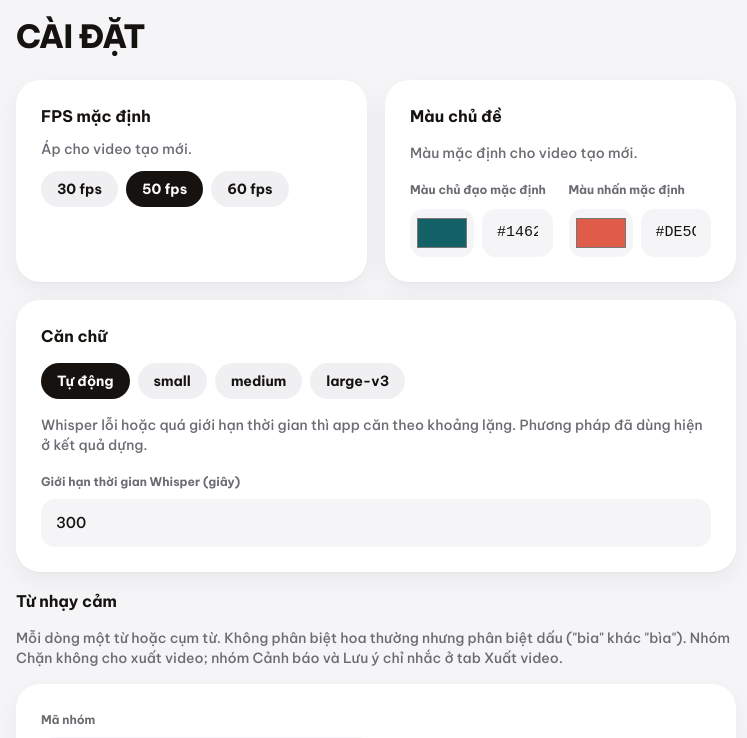
Test case: Cài đặt: các thẻ › warns that medium / large-v3 are slow without a GPU
This screenshot has width=747, height=738.
Click the button "large-v3" at (358, 381), box top-left (310, 363), bottom-right (405, 399)
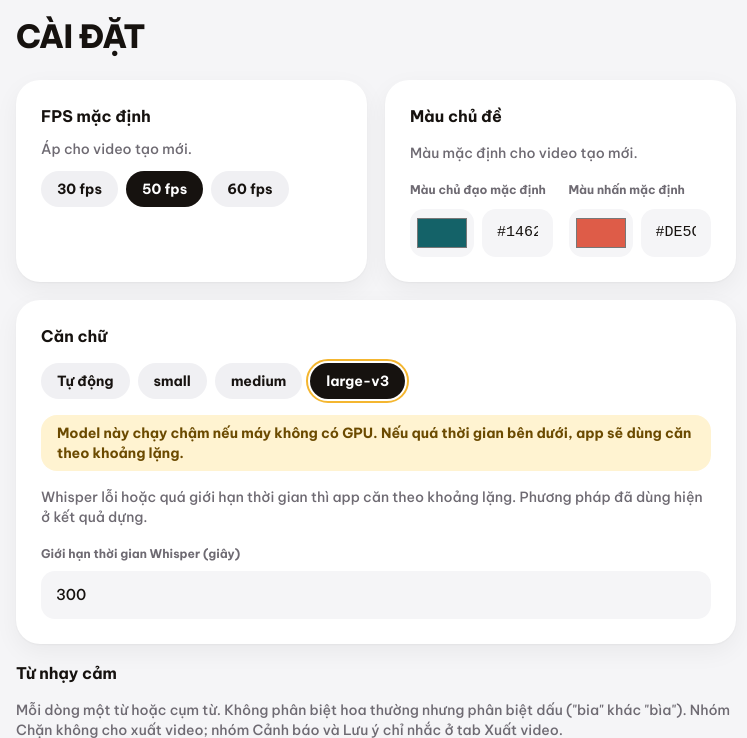
Check: the text "chạy chậm" is shown, box top-left (57, 424), bottom-right (691, 462)
